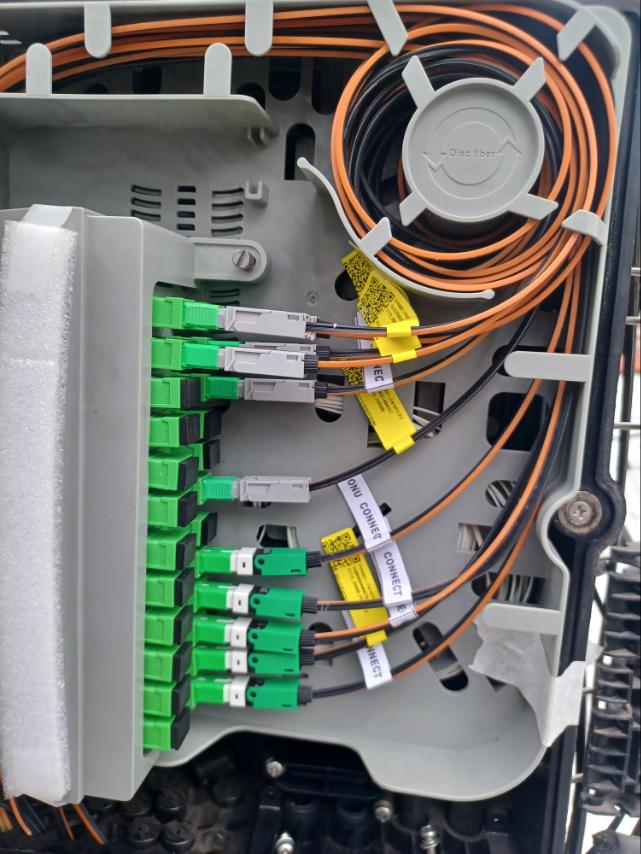occupied: (184, 299, 319, 341), (183, 343, 319, 381), (199, 581, 319, 622), (196, 616, 316, 654), (209, 303, 323, 342), (194, 676, 312, 712), (208, 374, 331, 404), (201, 546, 323, 575), (209, 340, 335, 367), (203, 473, 313, 503), (196, 649, 312, 674)
vacant: (175, 640, 194, 683), (172, 707, 190, 751), (172, 675, 191, 715), (178, 604, 193, 647), (178, 568, 194, 608), (179, 534, 196, 570), (183, 415, 202, 446), (183, 378, 202, 409), (181, 492, 198, 526), (202, 514, 218, 547), (182, 458, 198, 490), (204, 440, 220, 471), (205, 412, 221, 440)
